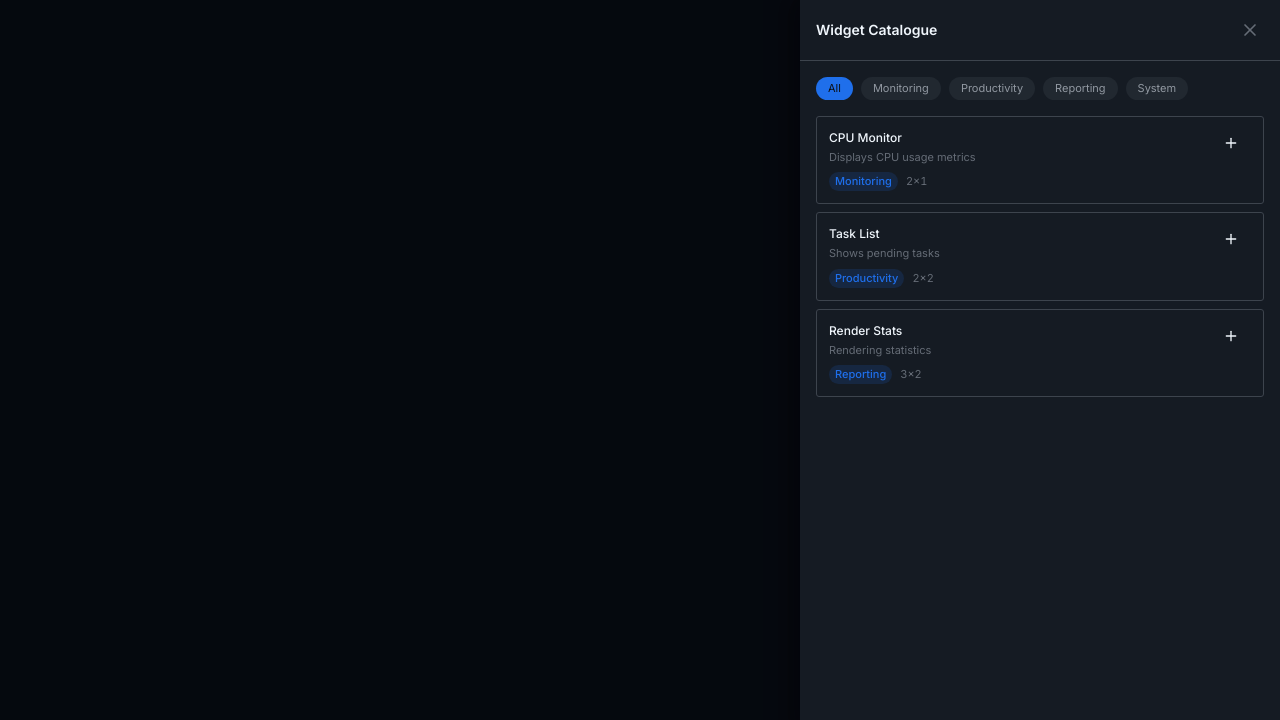
Scenario: WidgetCatalogue › shows empty state for filtered category with no widgets
The width and height of the screenshot is (1280, 720).
Click the button "System": click(1157, 88) [1126,77,1188,100]
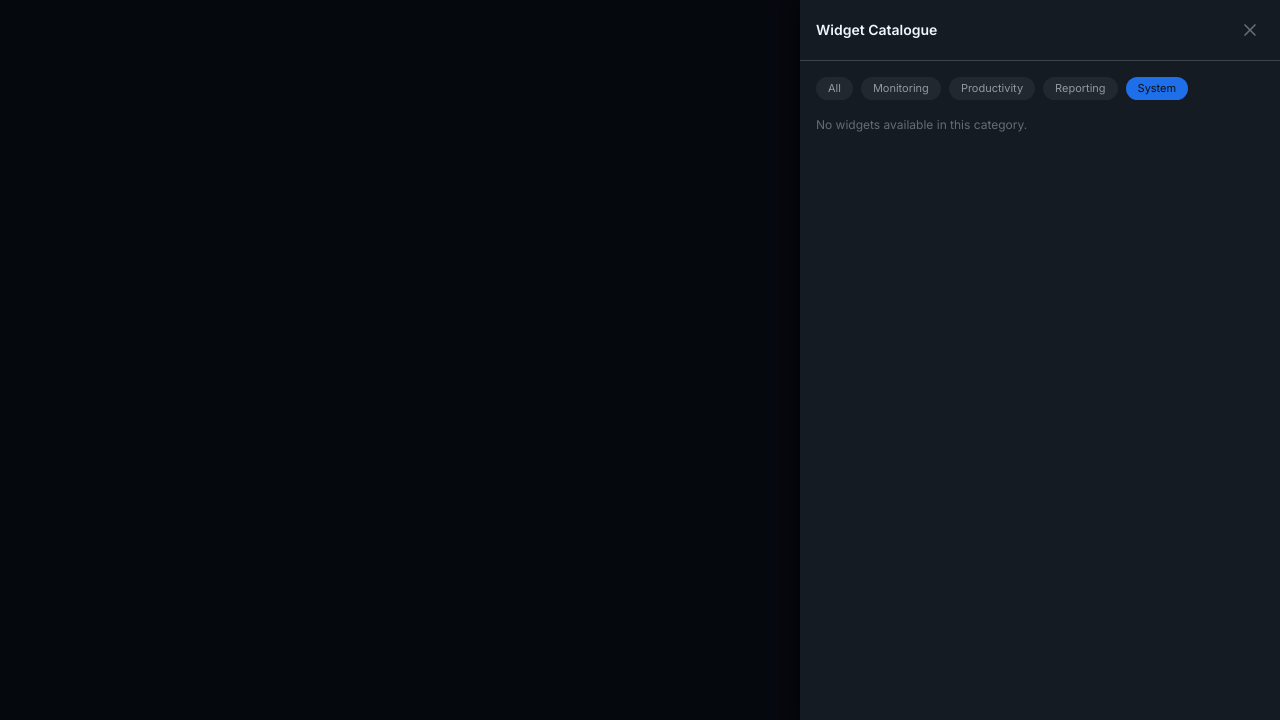
Check: the text "No widgets available in this category." is shown, box [816,117,1027,132]
